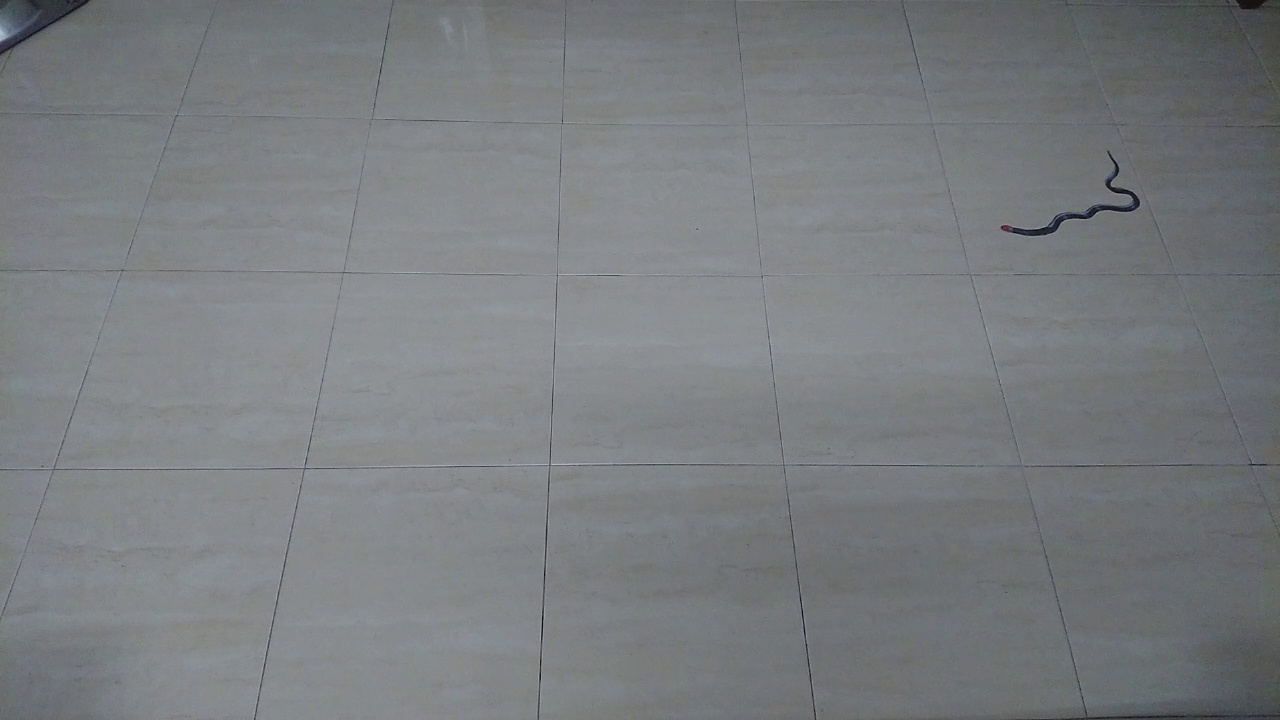snake: (987, 142, 1155, 252)
